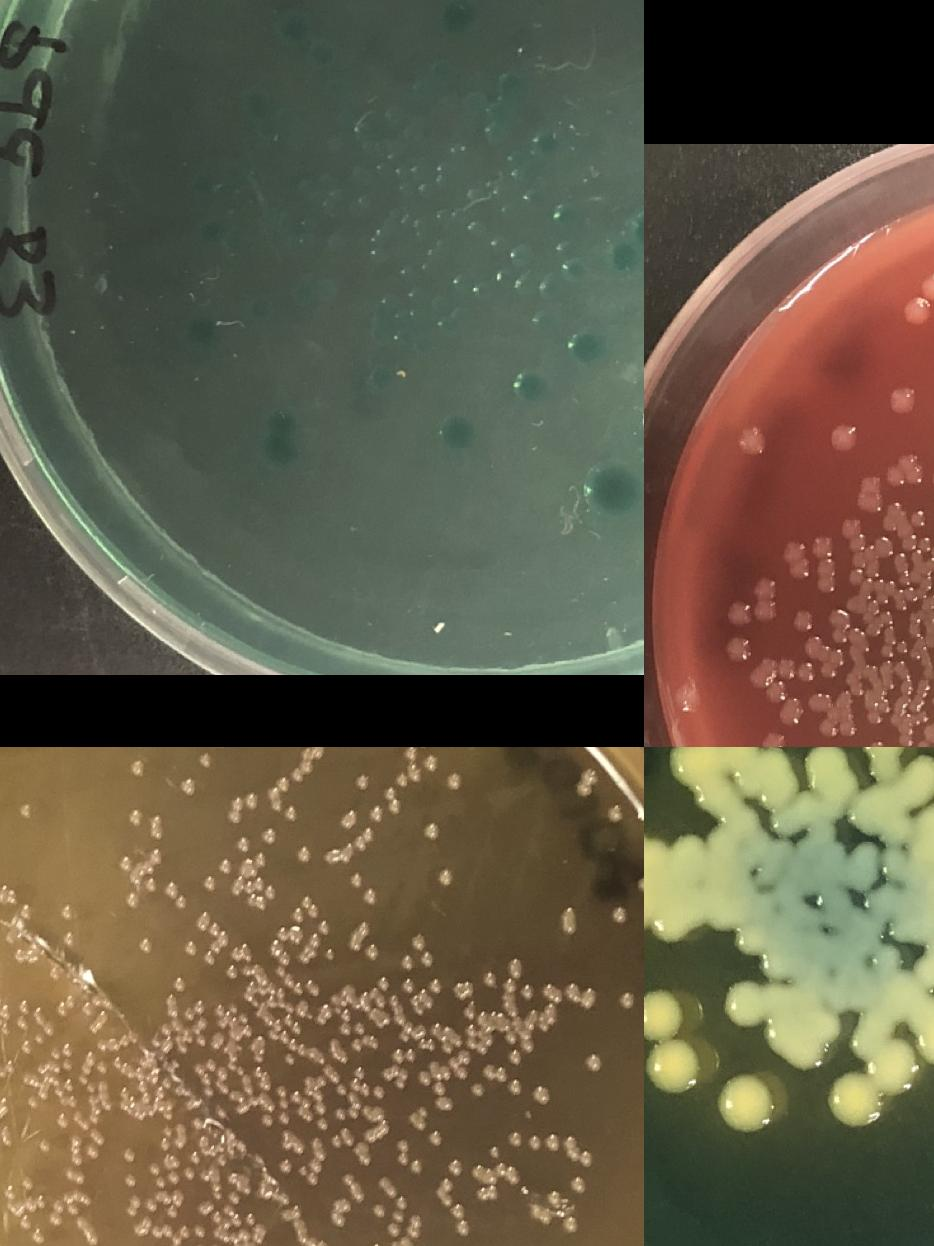assalmonicida: (277, 1012, 310, 1065), (266, 767, 304, 812), (272, 950, 304, 994), (349, 1064, 385, 1098), (242, 876, 277, 910), (147, 1154, 180, 1188), (228, 793, 259, 823), (134, 1216, 175, 1238), (446, 1048, 473, 1080), (449, 1202, 472, 1238), (182, 999, 208, 1030), (347, 920, 371, 952), (503, 957, 523, 994), (297, 934, 321, 964), (460, 1002, 478, 1038), (324, 843, 356, 862), (382, 784, 402, 813), (59, 1040, 76, 1074), (395, 765, 422, 786), (295, 1163, 321, 1184), (300, 893, 320, 917), (482, 1064, 510, 1080), (125, 1192, 142, 1218), (310, 1138, 329, 1161), (338, 1020, 367, 1035), (194, 1033, 222, 1048), (378, 1176, 397, 1198), (564, 1134, 579, 1159), (276, 926, 302, 940), (158, 1190, 184, 1204), (475, 1186, 499, 1201), (448, 1156, 465, 1176), (452, 982, 474, 997), (520, 982, 537, 1001), (542, 980, 558, 1000), (438, 866, 454, 886), (428, 1130, 444, 1150), (424, 820, 440, 840), (620, 989, 635, 1009), (484, 968, 499, 988), (36, 1137, 54, 1153), (59, 903, 76, 919), (54, 1001, 72, 1016), (410, 1214, 422, 1236), (20, 1174, 36, 1190), (20, 903, 36, 919), (18, 1038, 34, 1054), (612, 904, 626, 922), (62, 930, 77, 946), (57, 1112, 72, 1128), (16, 997, 31, 1013), (26, 1093, 40, 1109), (16, 1015, 30, 1031), (236, 1100, 251, 1114), (126, 892, 140, 907), (535, 1086, 549, 1100), (528, 1135, 542, 1149), (520, 1037, 534, 1051), (506, 1167, 520, 1181), (506, 1030, 520, 1044), (438, 1096, 452, 1110), (432, 1080, 446, 1094), (428, 978, 442, 992), (424, 756, 438, 770), (420, 951, 434, 965), (417, 1070, 431, 1084), (412, 934, 426, 948), (396, 1137, 410, 1151), (376, 976, 390, 990), (372, 1202, 386, 1216), (370, 805, 384, 819), (364, 944, 378, 958), (361, 826, 375, 840), (356, 774, 370, 788), (349, 1038, 363, 1052), (349, 871, 363, 885), (334, 1106, 348, 1120), (330, 1134, 344, 1148), (318, 1004, 332, 1018), (317, 920, 331, 934), (316, 1117, 330, 1131), (314, 1100, 328, 1114), (314, 1074, 328, 1088), (297, 847, 311, 861), (284, 805, 298, 819), (279, 1158, 293, 1172), (278, 1109, 292, 1123), (275, 1082, 289, 1096), (262, 828, 276, 842), (261, 1112, 275, 1126), (254, 851, 268, 865), (242, 1211, 256, 1225), (224, 965, 238, 979), (218, 858, 232, 872), (207, 922, 221, 936), (204, 950, 218, 964), (204, 874, 218, 888), (200, 750, 214, 764), (194, 1224, 208, 1238), (182, 1164, 196, 1178), (182, 778, 196, 792), (178, 1224, 192, 1238), (174, 895, 188, 909), (172, 976, 186, 990), (166, 1004, 180, 1018), (165, 1206, 179, 1220), (158, 1022, 172, 1036), (144, 1198, 158, 1212), (122, 1174, 136, 1188), (118, 855, 132, 869), (547, 1134, 560, 1148), (364, 889, 378, 902), (183, 938, 197, 951), (509, 1132, 523, 1144), (508, 1080, 522, 1092), (488, 1144, 502, 1156), (471, 1082, 485, 1094), (402, 980, 416, 992), (400, 956, 414, 968), (396, 1153, 410, 1165), (334, 1082, 348, 1094), (324, 946, 336, 960), (307, 984, 321, 996), (237, 1228, 251, 1240), (237, 838, 251, 850), (228, 1189, 240, 1203), (200, 1200, 214, 1212), (140, 938, 154, 950), (132, 761, 144, 775), (122, 1148, 136, 1160), (520, 1184, 533, 1196), (507, 1052, 520, 1064), (205, 1058, 218, 1070), (404, 747, 418, 758), (410, 1159, 422, 1171), (396, 1195, 408, 1207), (392, 1209, 404, 1221), (388, 1222, 400, 1234), (292, 908, 304, 920), (230, 947, 242, 959), (228, 1002, 240, 1014), (226, 1060, 238, 1072), (216, 1017, 228, 1029), (214, 1003, 226, 1015), (203, 1085, 215, 1097), (193, 1117, 205, 1129), (189, 1150, 201, 1162), (176, 1042, 188, 1054), (243, 989, 254, 1001), (0, 1101, 7, 1116), (316, 1240, 330, 1246), (391, 1240, 403, 1246), (368, 1243, 382, 1246), (194, 1243, 208, 1246)
pddamselae: (588, 462, 640, 514), (630, 206, 644, 250)
sinniae: (901, 427, 934, 559), (902, 267, 934, 330), (814, 534, 838, 601), (888, 381, 920, 417), (828, 420, 861, 452), (756, 575, 778, 623), (672, 682, 704, 715), (784, 539, 810, 579), (738, 426, 770, 458), (882, 578, 920, 603), (814, 644, 838, 680), (778, 659, 816, 681), (884, 461, 910, 489), (873, 533, 899, 561), (838, 513, 860, 539), (768, 680, 790, 706), (728, 600, 750, 626), (728, 634, 750, 660), (910, 508, 930, 528), (848, 566, 868, 586), (794, 609, 814, 629), (819, 717, 838, 738), (762, 732, 788, 747), (808, 691, 828, 710), (878, 607, 895, 627), (832, 626, 849, 646), (897, 731, 914, 747), (897, 639, 910, 654), (880, 644, 896, 656), (929, 689, 934, 724), (867, 739, 887, 747), (929, 666, 934, 685)
valgino: (770, 747, 913, 886), (828, 1006, 934, 1128), (644, 988, 699, 1094), (668, 747, 756, 811), (715, 1074, 773, 1129), (726, 982, 790, 1024), (820, 884, 852, 918), (808, 1008, 840, 1042), (654, 908, 686, 942), (868, 886, 900, 919), (674, 834, 706, 867), (870, 944, 902, 976), (762, 945, 794, 977), (736, 921, 768, 953), (709, 898, 741, 930), (914, 936, 934, 985), (755, 747, 787, 777), (908, 754, 934, 786), (921, 803, 934, 835)
